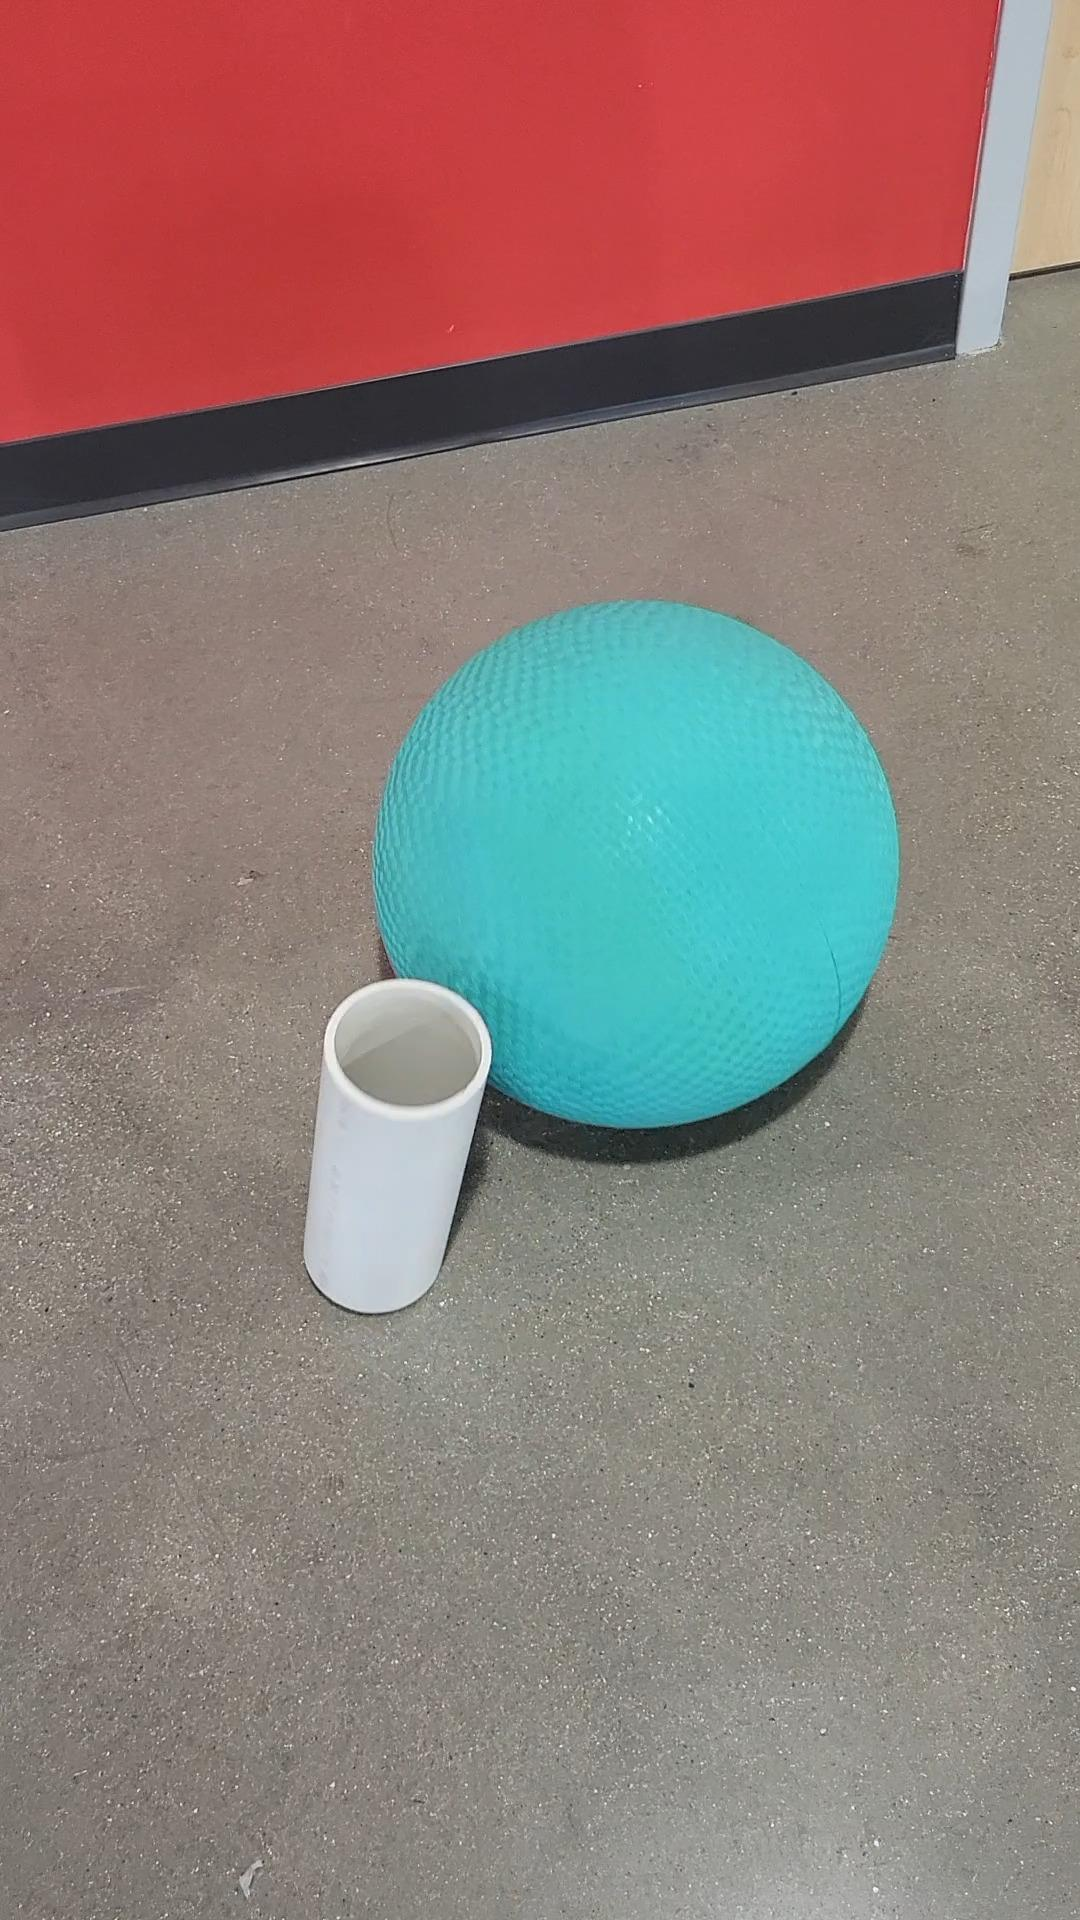algae: (371, 592, 906, 1130)
coral: (299, 976, 496, 1317)
